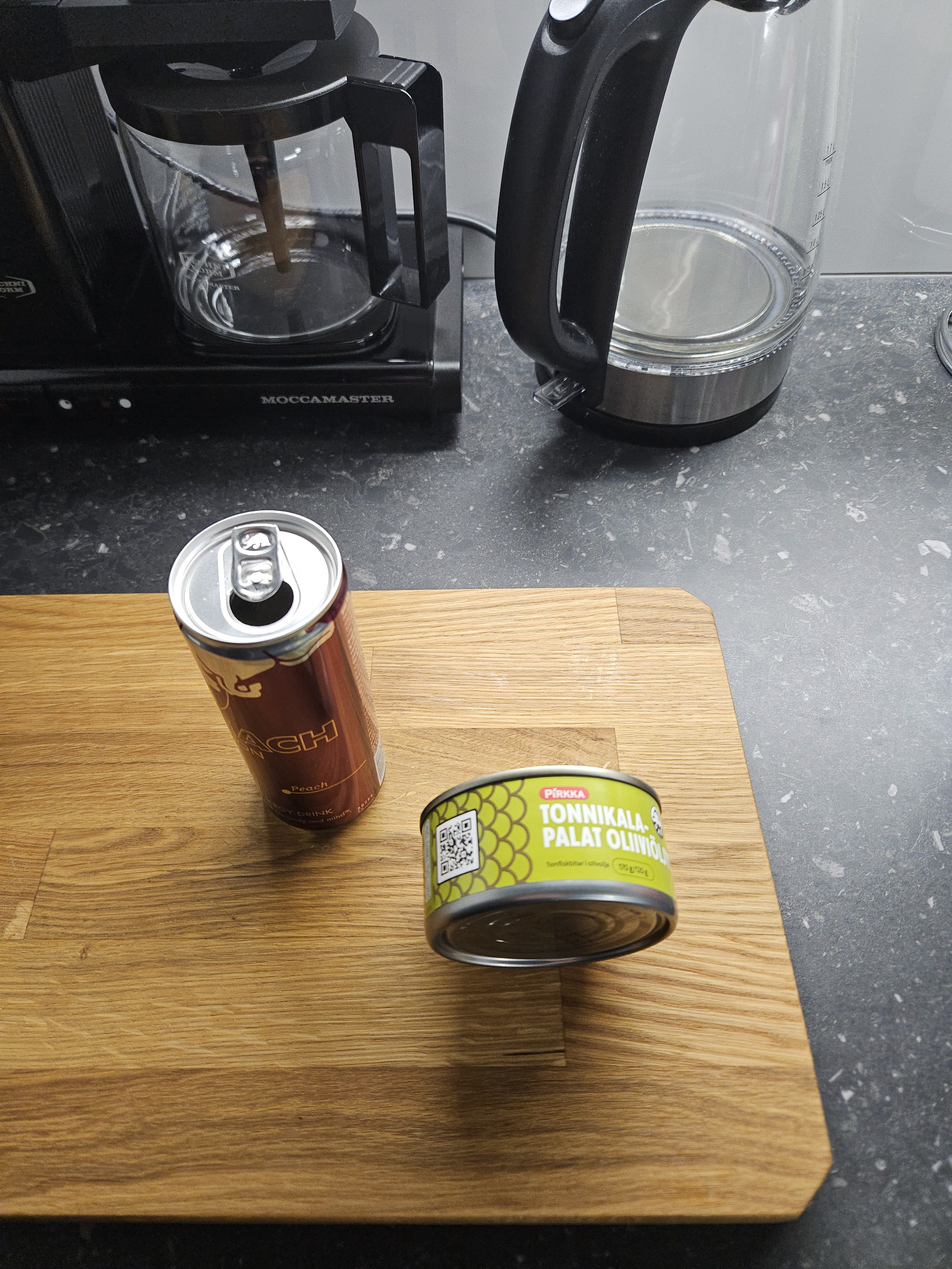Konservburk: (401, 765, 684, 972)
Pantburk: (168, 510, 383, 833)
